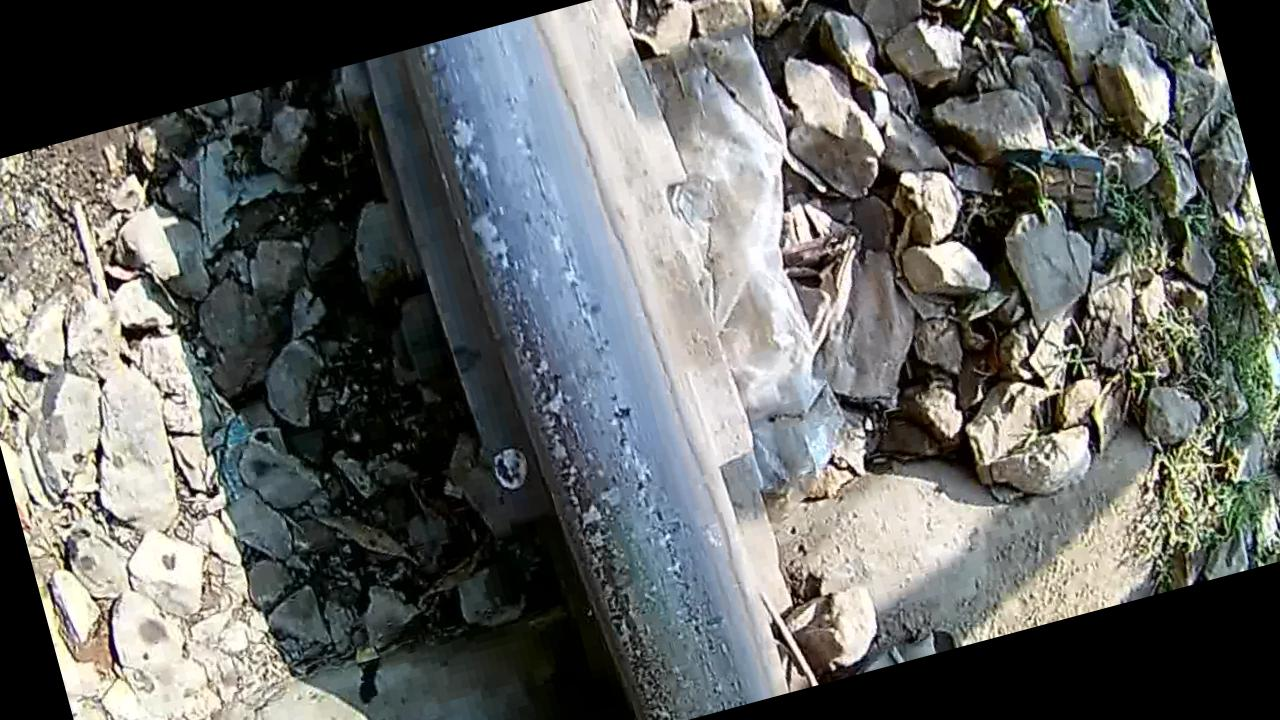clip_missing: (396, 5, 760, 720)
